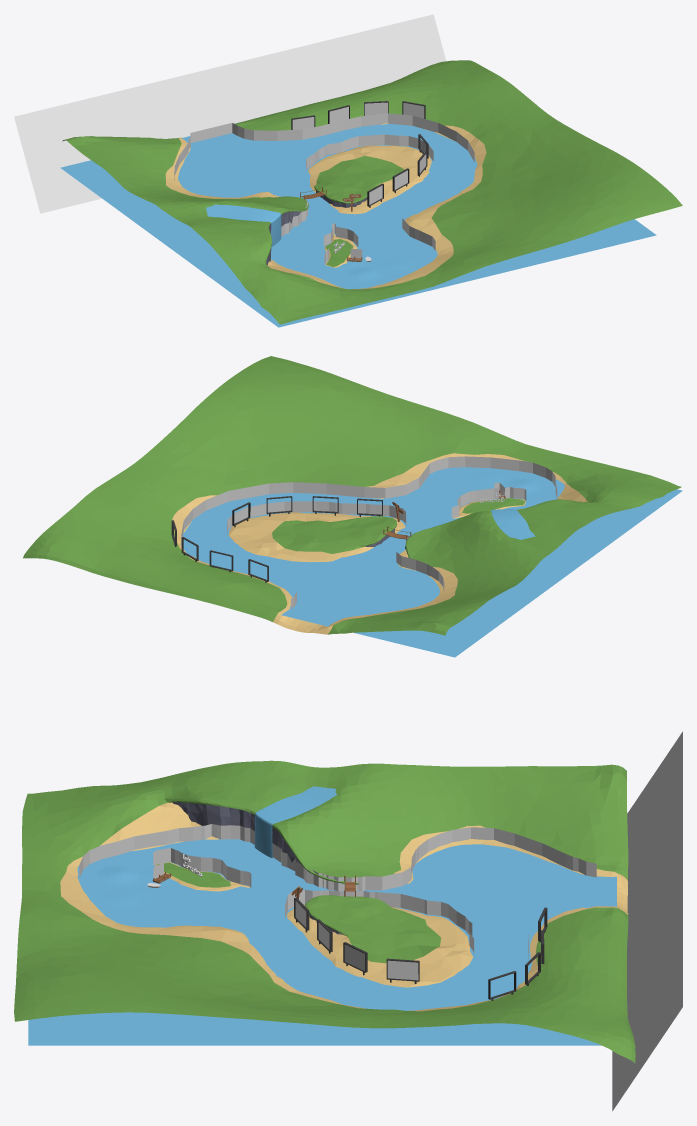
File: river_environment.glb
3 renders of one model, top to bottom at view 1: azimuth 30°, elevation 25°; view 2: azimuth 150°, elevation 25°; view 3: azimuth 270°, elevation 25°, orthographic. The views are drawn at different scales.
Parts seen in each view (by area): view 1: floor, lake, water_block, barrier, waterfall; view 2: floor, lake, barrier, waterfall; view 3: floor, lake, water_block, barrier, waterfall, cliff_1, board_4.
Part boxes in pixels (x1=…): floor: x1=62, y1=60, x2=682, y2=324; lake: x1=60, y1=123, x2=656, y2=327; water_block: x1=14, y1=14, x2=446, y2=213; barrier: x1=174, y1=113, x2=474, y2=263; waterfall: x1=206, y1=204, x2=281, y2=246; floor: x1=23, y1=356, x2=681, y2=635; lake: x1=181, y1=467, x2=682, y2=657; barrier: x1=181, y1=456, x2=557, y2=609; waterfall: x1=491, y1=509, x2=535, y2=539; floor: x1=14, y1=760, x2=635, y2=1063; lake: x1=28, y1=839, x2=616, y2=1045; water_block: x1=612, y1=731, x2=682, y2=1111; barrier: x1=79, y1=824, x2=596, y2=960; waterfall: x1=254, y1=786, x2=336, y2=858; cliff_1: x1=172, y1=802, x2=323, y2=883; board_4: x1=387, y1=960, x2=418, y2=980.
Size of the model in its own units: 300 by 51.95 by 300.
